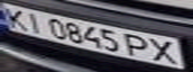0: (42, 16, 66, 40)
4: (81, 24, 103, 48)
5: (100, 26, 124, 54)
8: (63, 19, 84, 44)
I: (21, 9, 48, 35)
K: (0, 5, 30, 30)
P: (124, 32, 154, 58)
X: (145, 36, 184, 65)
